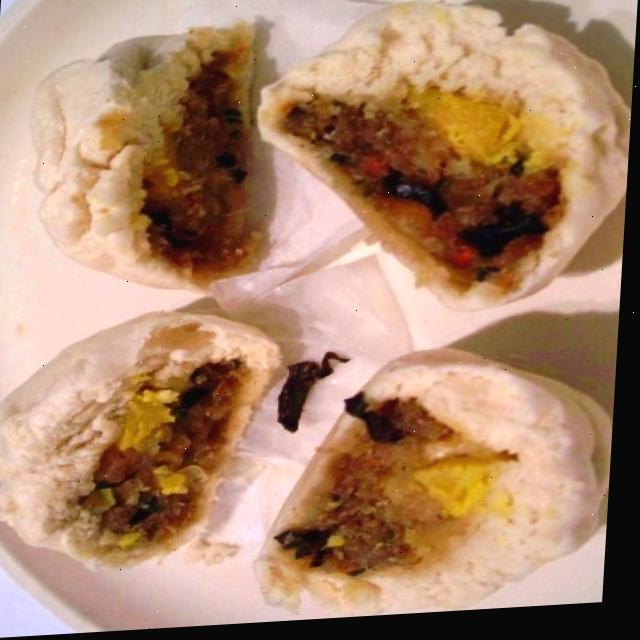带馅早点: (0, 0, 640, 638)
